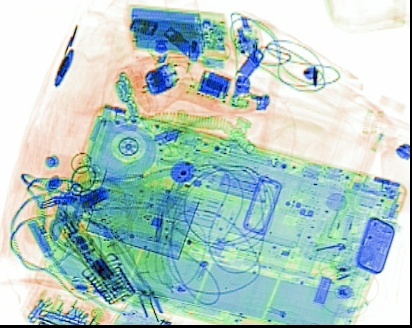powerbank: (124, 2, 230, 55)
